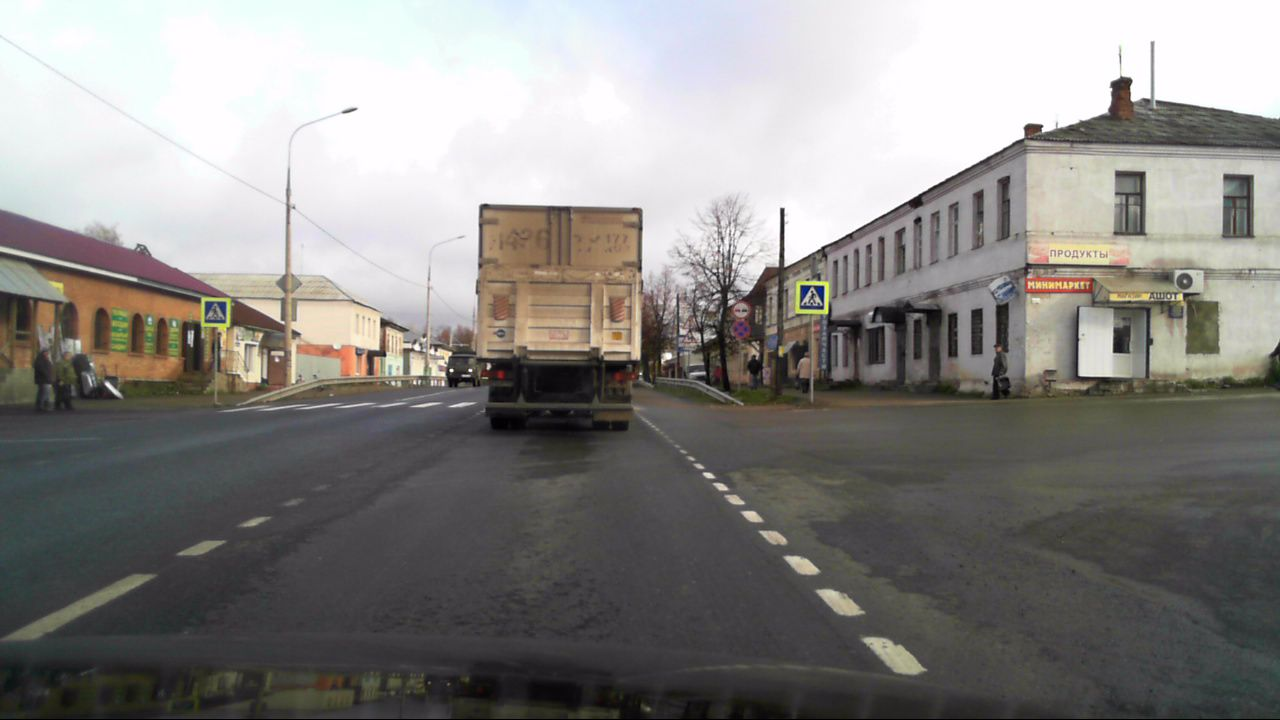No Parking: (733, 320, 750, 338)
